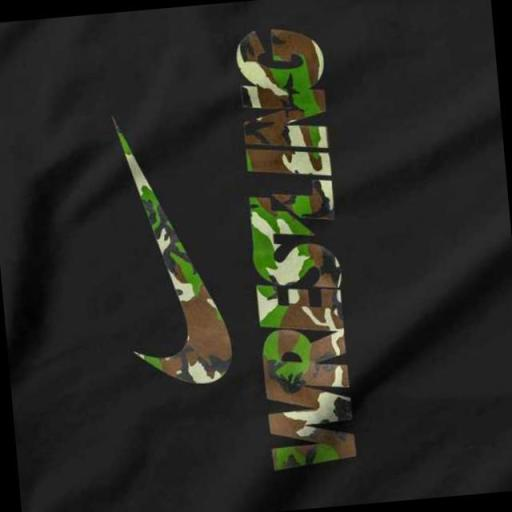Nike: (105, 97, 236, 394)
